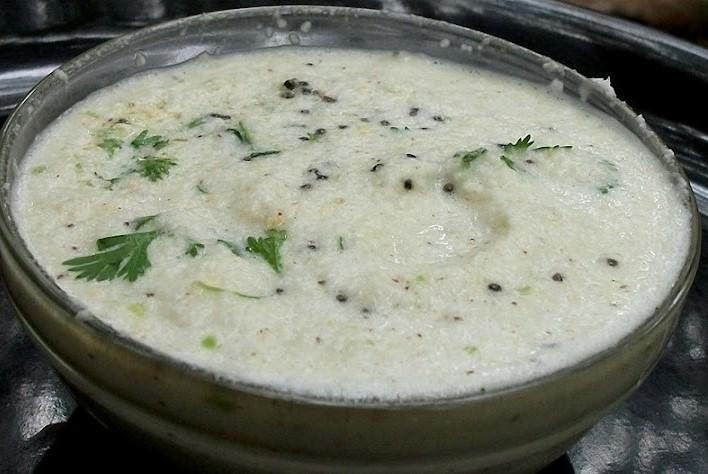CoconutChutney: (11, 51, 692, 401)
